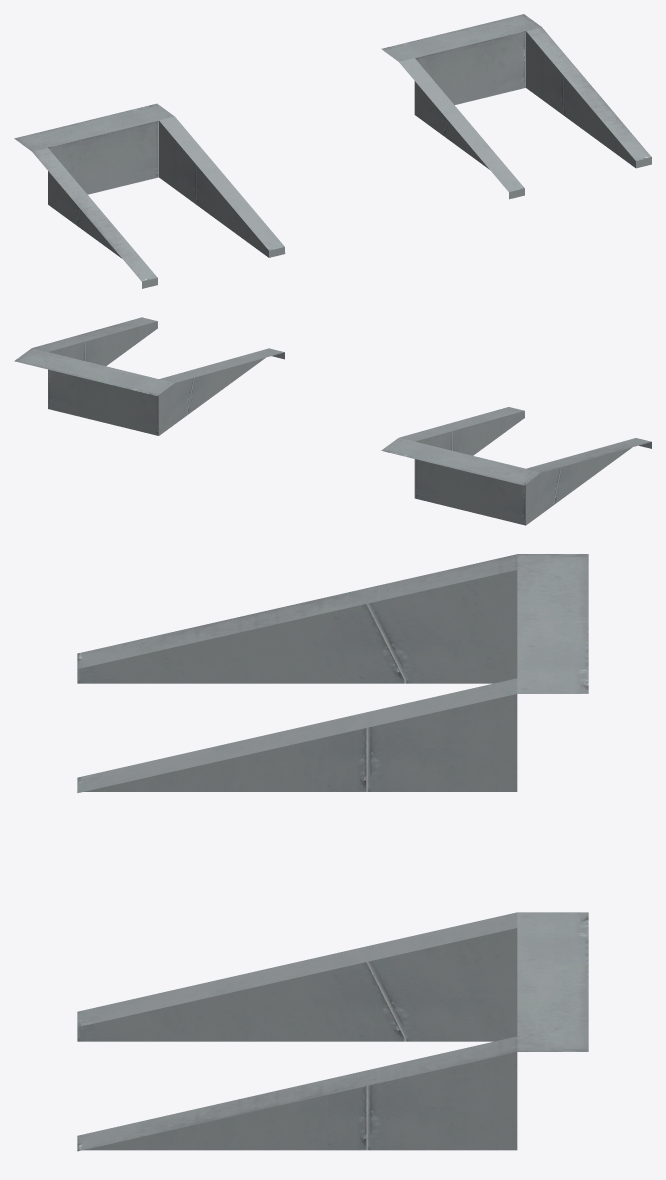
The model's file is mureteAccesoVestuarios.FBX.
3 renders of one model, top to bottom at view 1: azimuth 30°, elevation 25°; view 2: azimuth 150°, elevation 25°; view 3: azimuth 270°, elevation 25°, orthographic. The views are drawn at different scales.
Parts seen in each view (by area): view 1: mureteVestuarios; view 2: mureteVestuarios; view 3: mureteVestuarios.
Part boxes in pixels (box(x1,y1,x2,y2)): mureteVestuarios: box(14, 14, 651, 288); mureteVestuarios: box(14, 317, 651, 525); mureteVestuarios: box(77, 554, 588, 1151).
Bounding box in the file's own units: 597 × 63.7 × 259.
